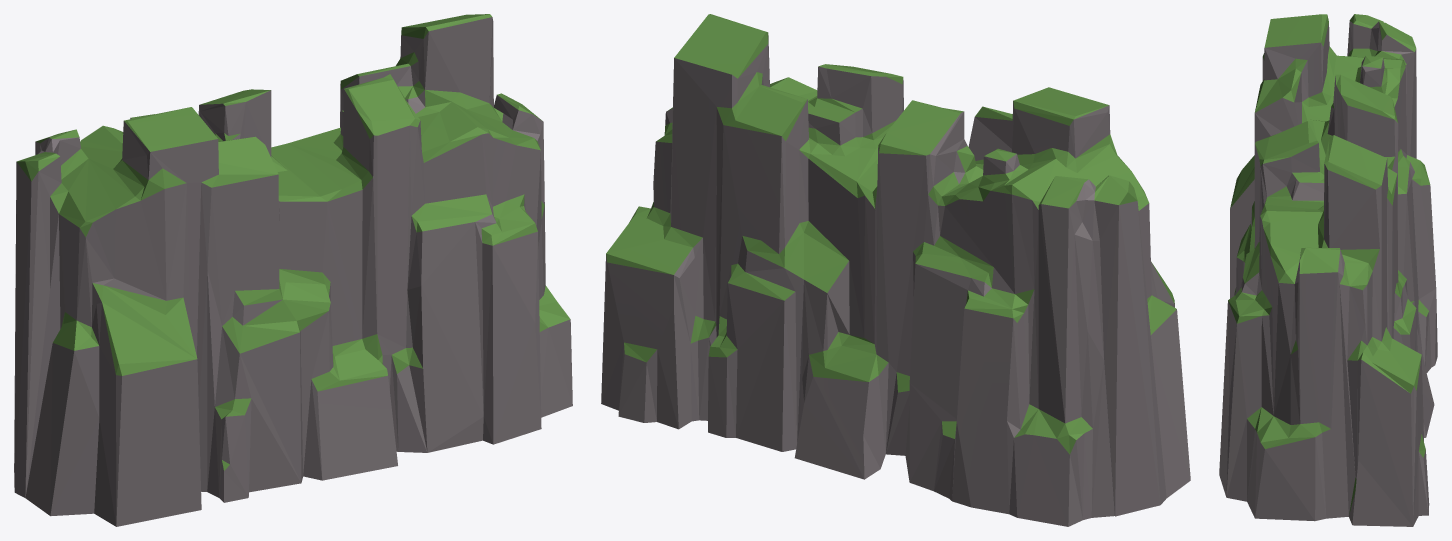
Rendered from Rock_Formation_1.fbx.
3 views of the same model, side by side, from view 1: azimuth 30°, elevation 25°; view 2: azimuth 150°, elevation 25°; view 3: azimuth 270°, elevation 25° (orthographic). The views are drawn at different scales.
Parts seen in each view (by area): view 1: Rock_Formation_1; view 2: Rock_Formation_1; view 3: Rock_Formation_1.
Boxes of the visible parts, left/top/right/bottom form: Rock_Formation_1: left=14, top=14, right=572, bottom=526; Rock_Formation_1: left=601, top=14, right=1190, bottom=526; Rock_Formation_1: left=1219, top=14, right=1437, bottom=526.
Size of the model in its own units: 6.98 by 4.73 by 2.77.
